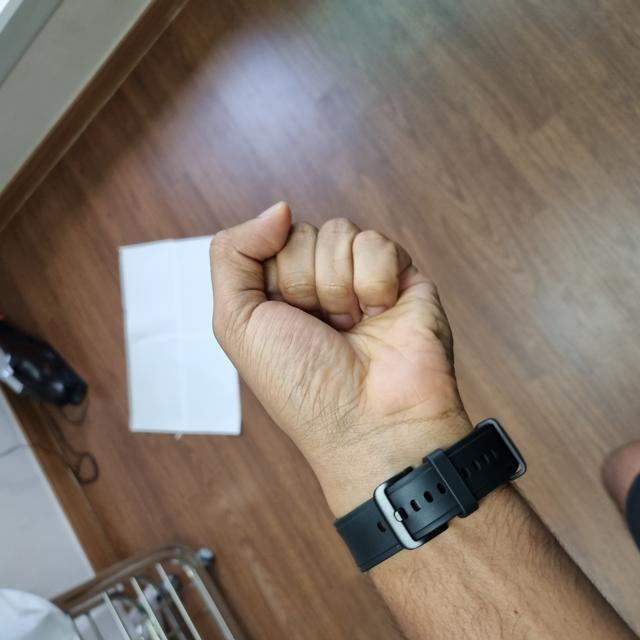Rock: (123, 212, 434, 463)
